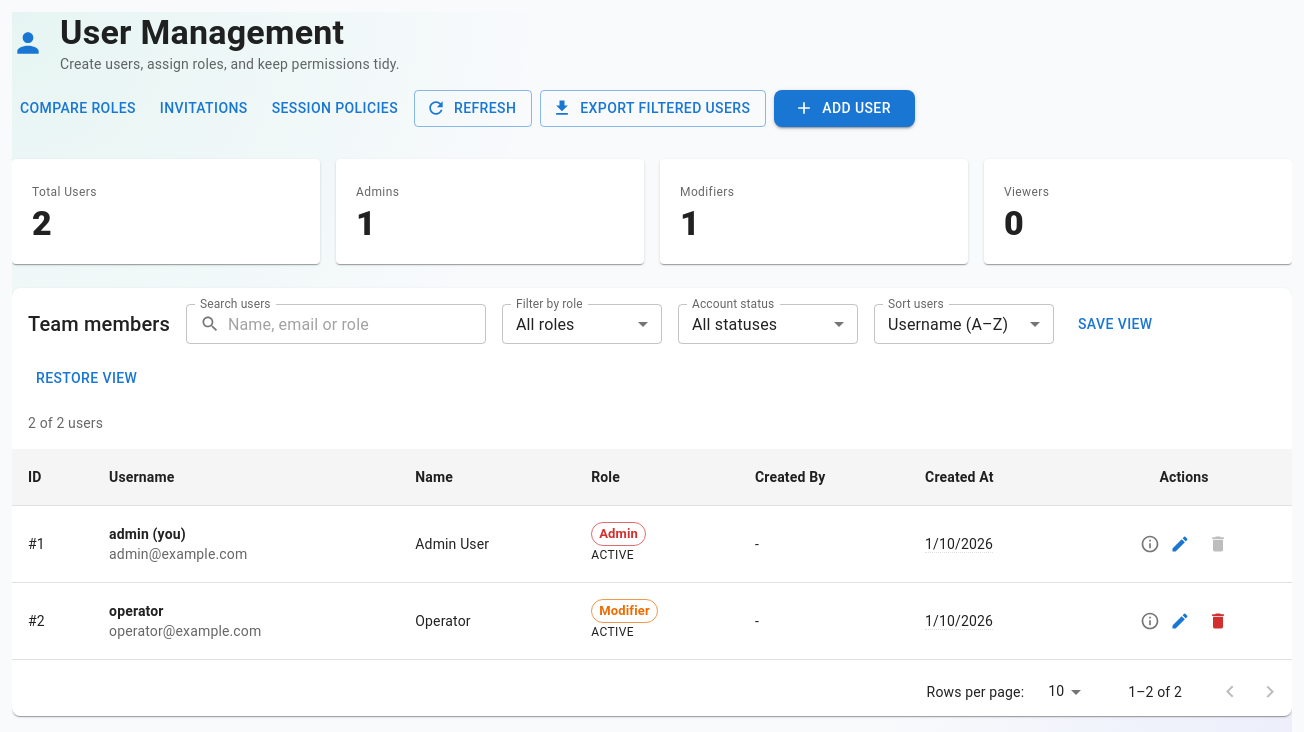
Test: User Management › searches email addresses and clears an empty search result
This screenshot has width=1304, height=732.
Expected: the text "operator@example.com" is shown, x1=109 y1=623 x2=261 y2=639
Expected: the text "Modifiers" is shown, x1=680 y1=184 x2=734 y2=198
Type "  OPERATOR@  " into the field labelled "Search users" at {"x": 357, "y": 324}, box x1=228 y1=304 x2=486 y2=344
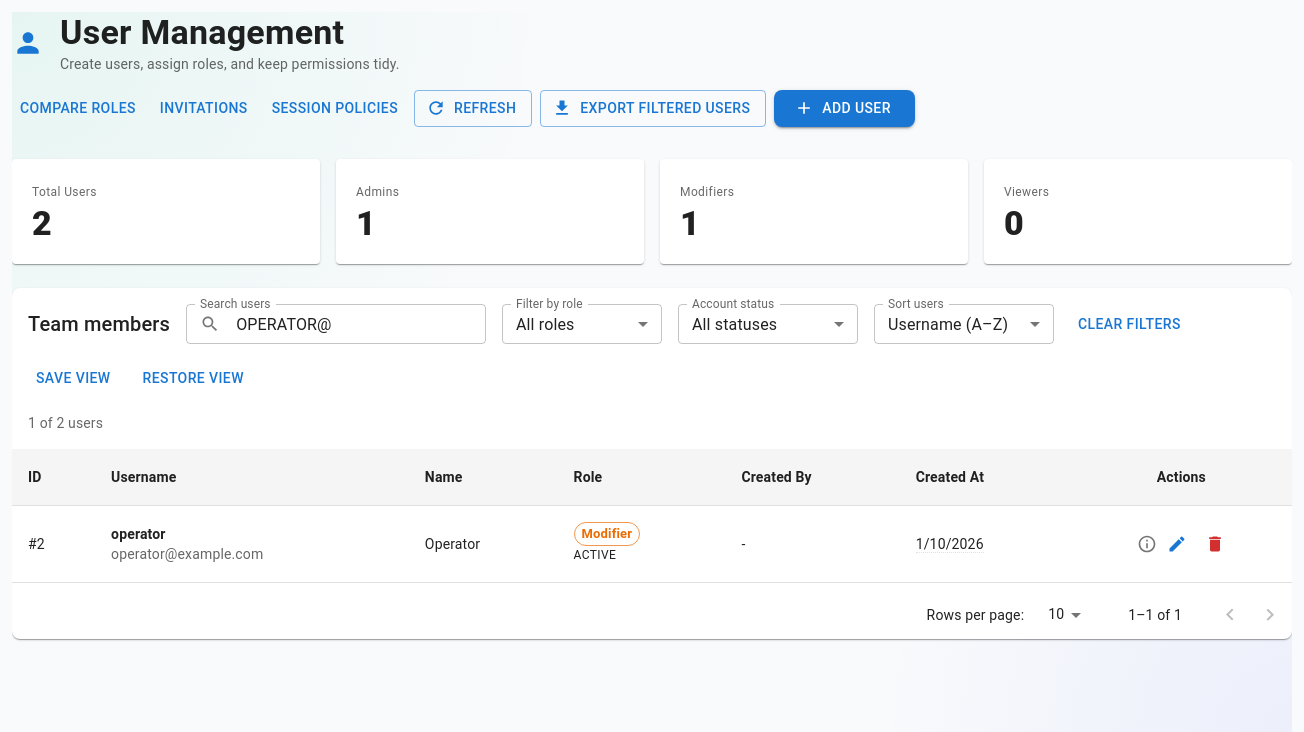
Expected: the text "operator@example.com" is shown, x1=111 y1=546 x2=263 y2=562
Expected: the text "admin@example.com" is gone
Replace the text in the field labelled "Search users" with "missing" at {"x": 357, "y": 324}, box x1=228 y1=304 x2=486 y2=344
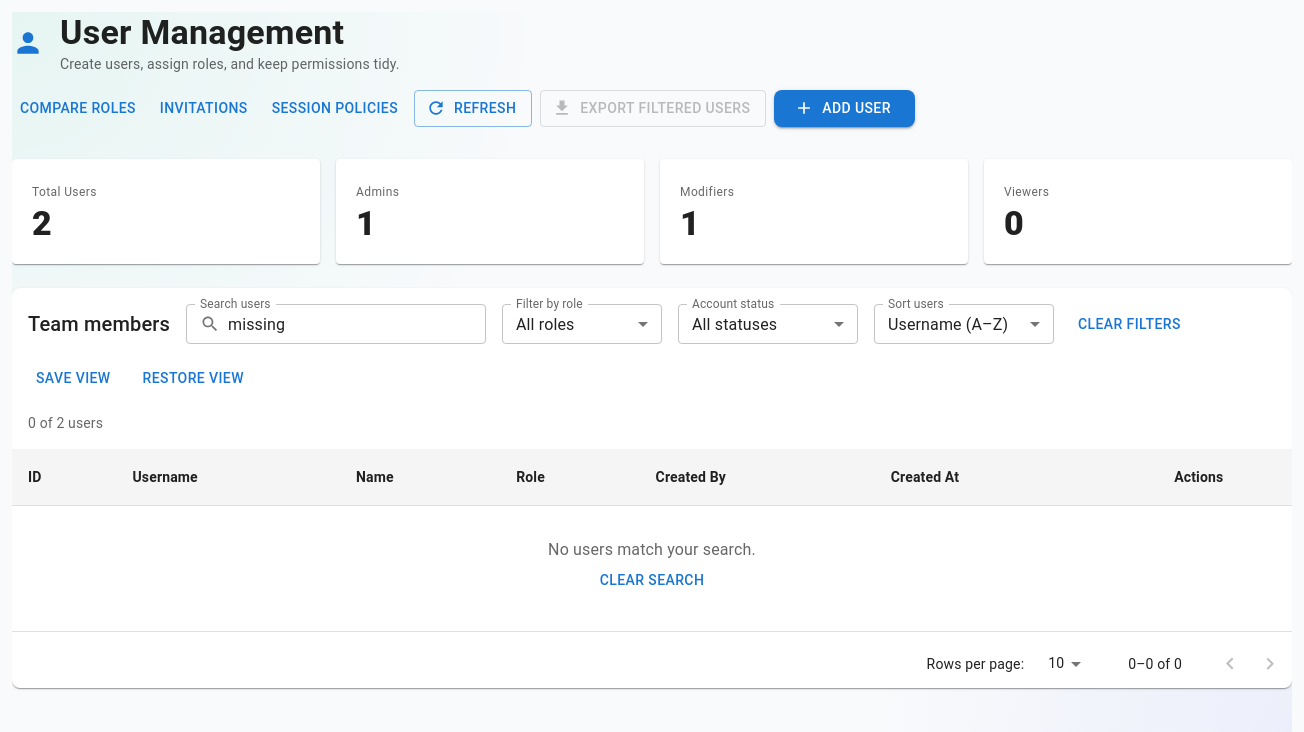
Expected: the text "No users match your search." is shown, x1=548 y1=540 x2=756 y2=559
Click the button "Clear search" at {"x": 652, "y": 580}, box x1=592 y1=562 x2=712 y2=598
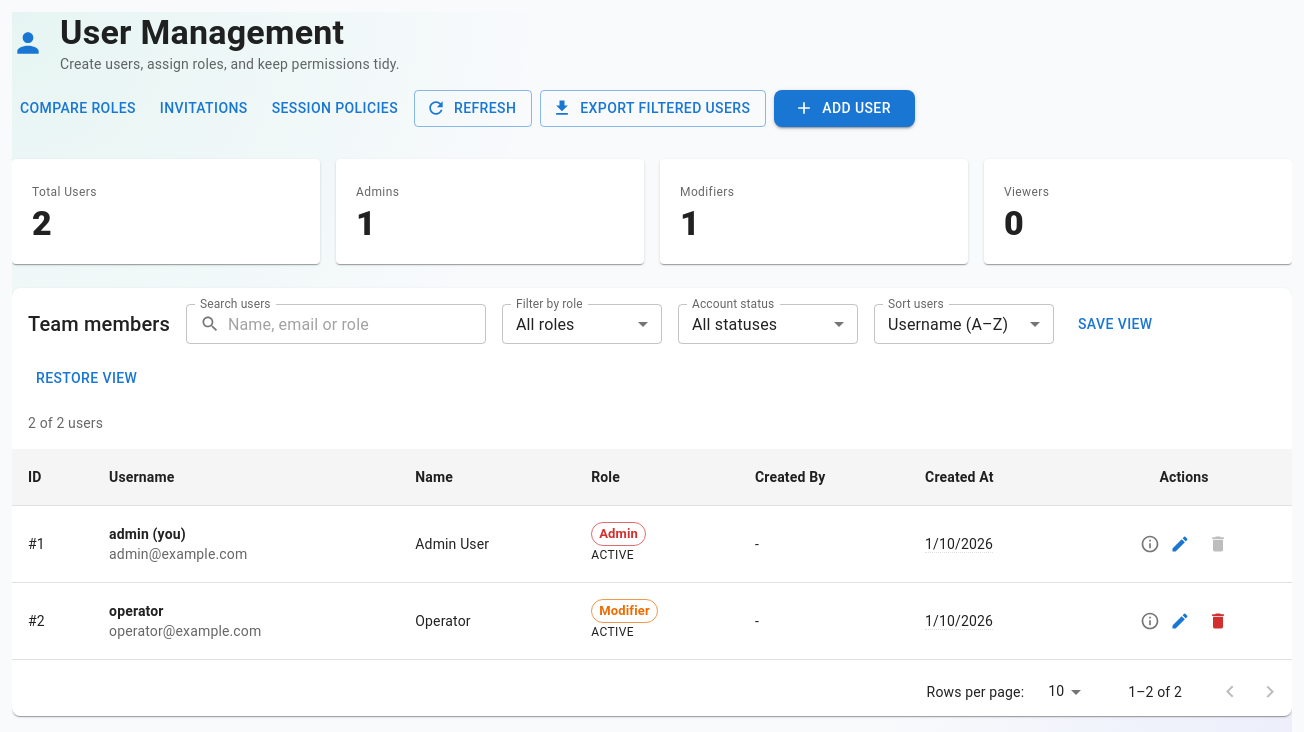
Expected: the text "admin@example.com" is shown, x1=109 y1=546 x2=247 y2=562
